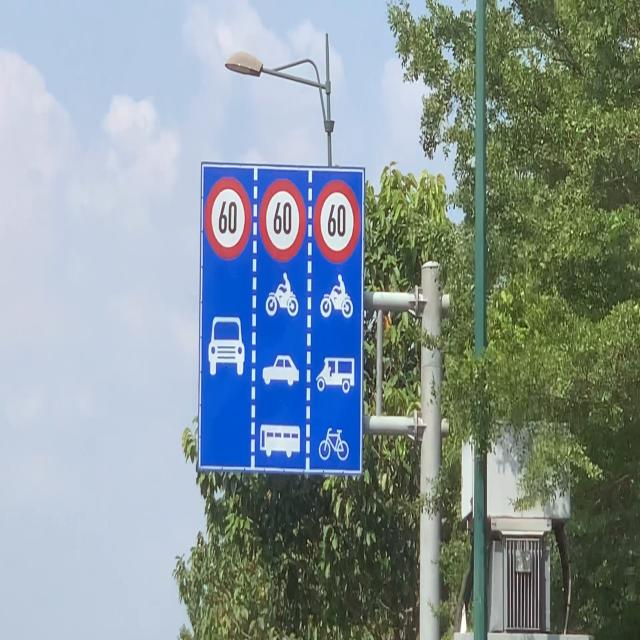Toc do toi da: (204, 176, 252, 261), (314, 179, 361, 264), (259, 178, 306, 262)
